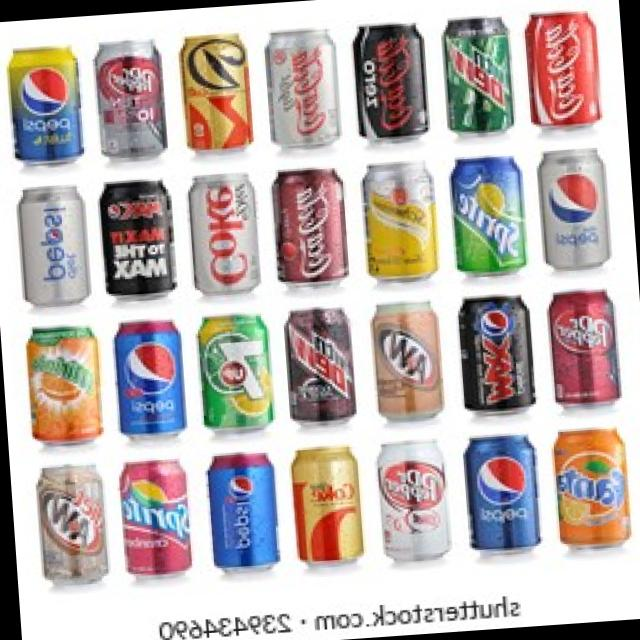cocacola: (512, 0, 606, 144)
sprite: (444, 145, 539, 286)
